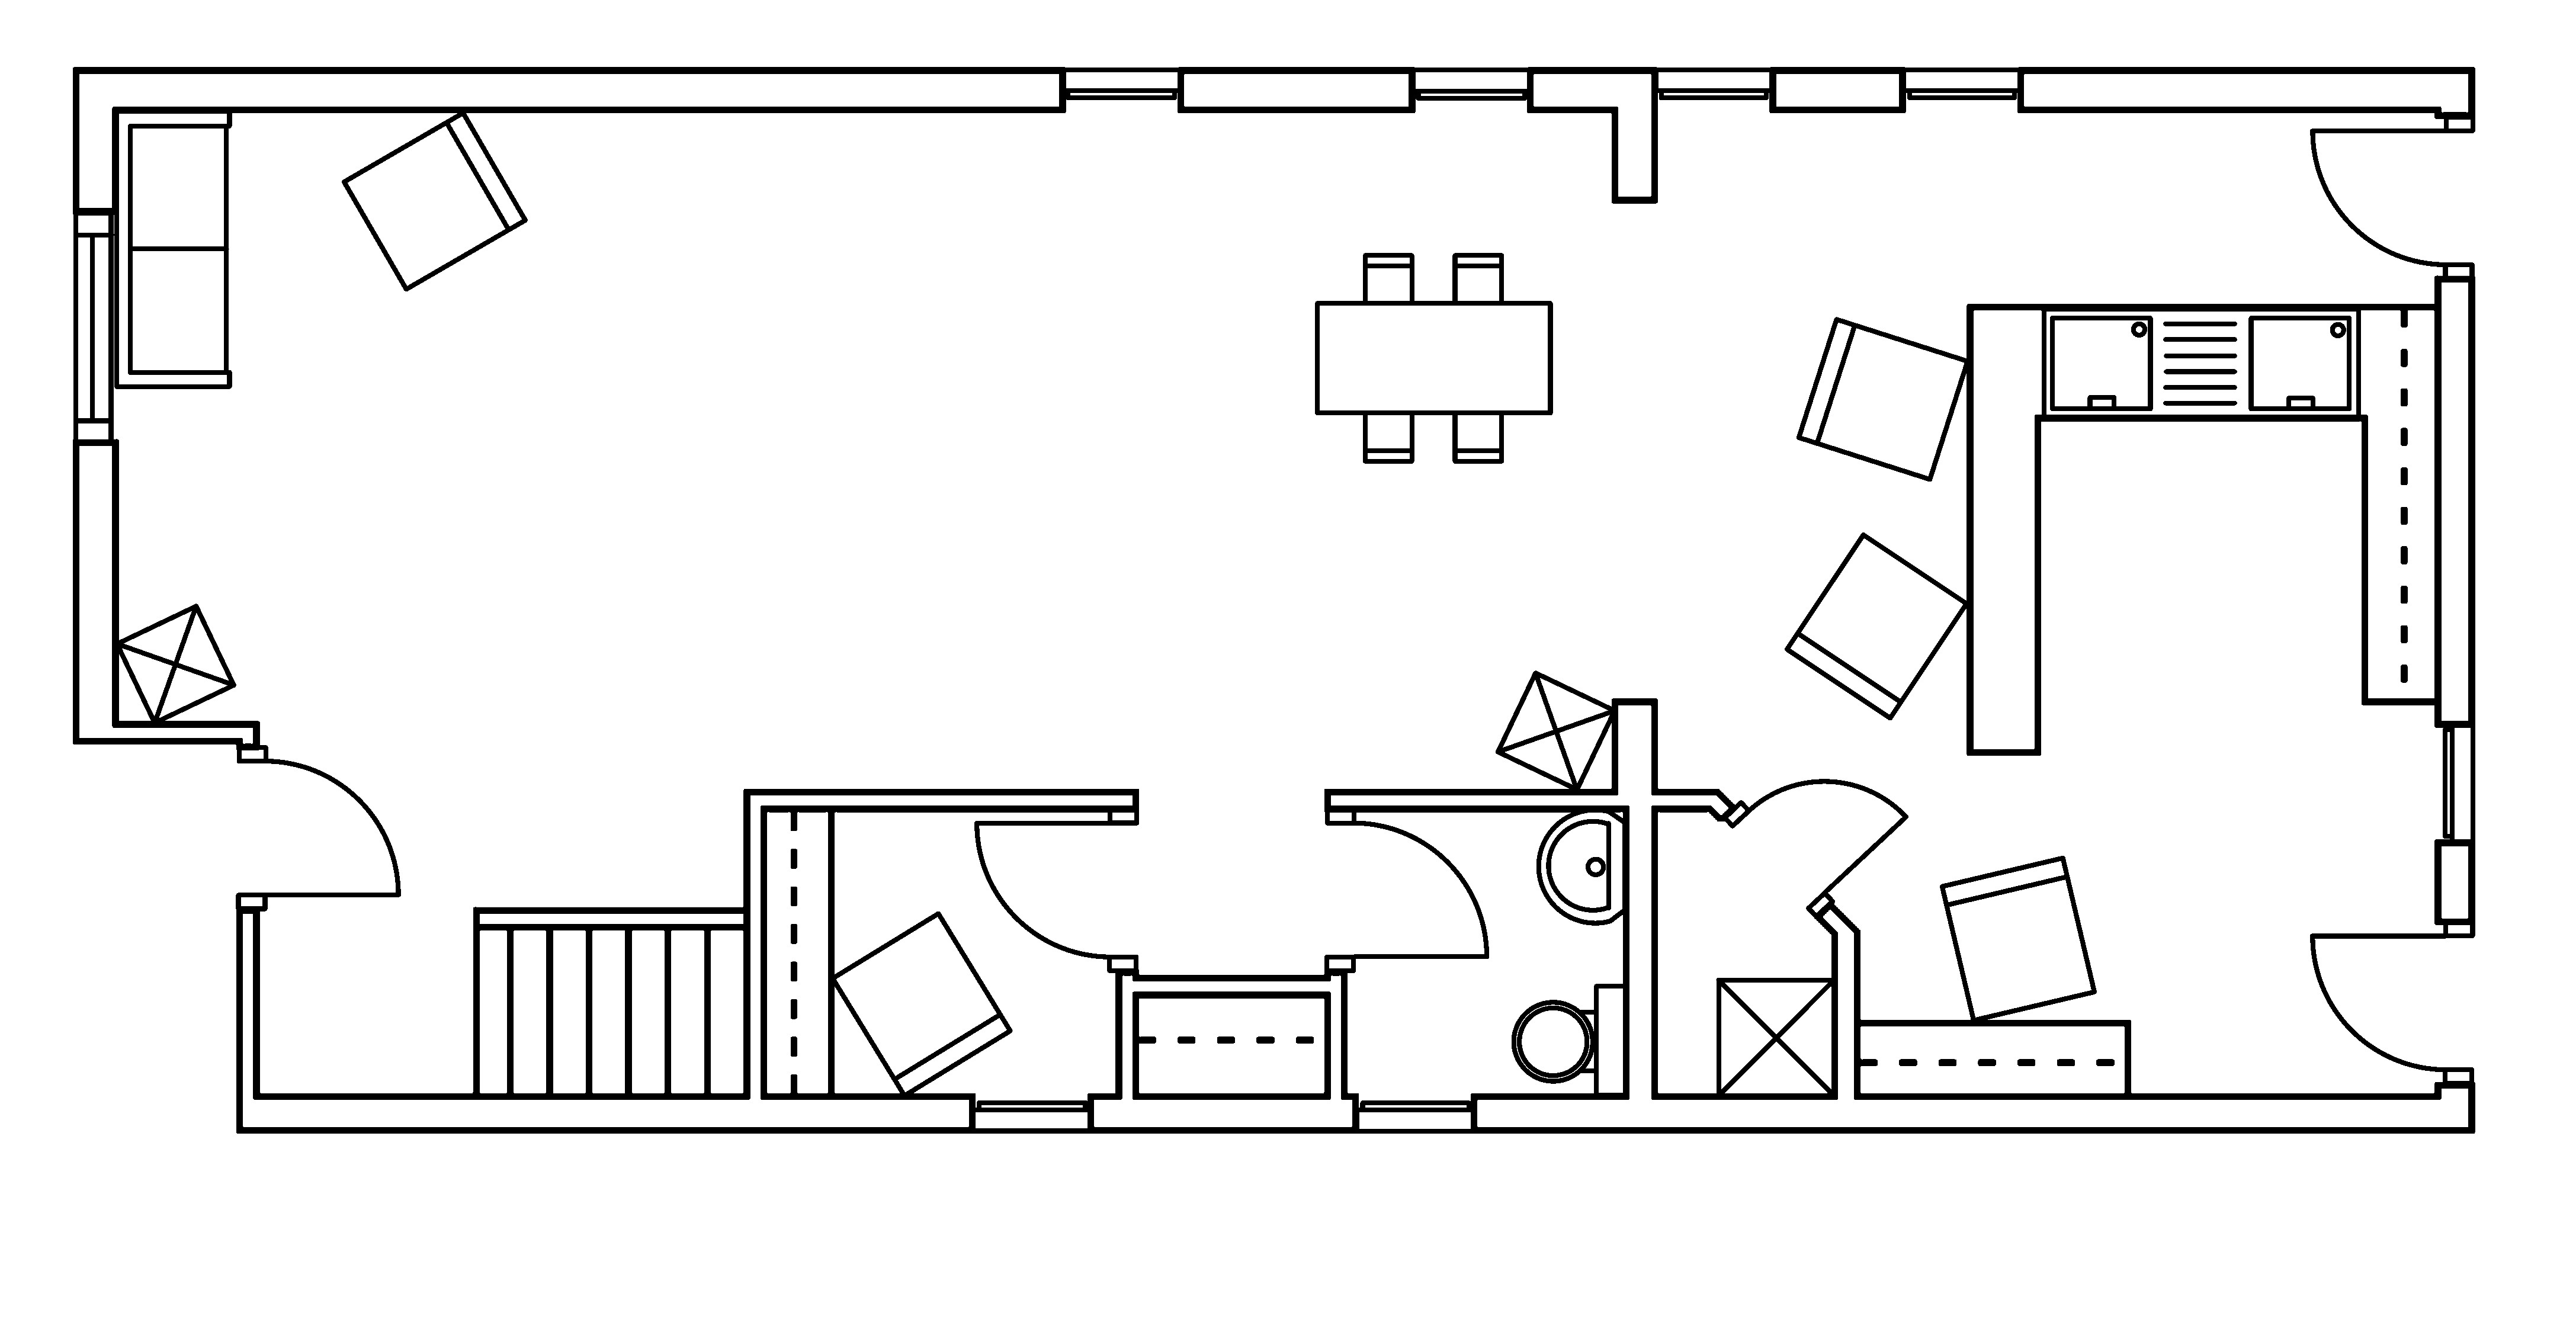coffee_table: (1493, 670, 1618, 792), (113, 602, 237, 725), (1715, 976, 1836, 1099)
dining_table: (1313, 252, 1554, 464)
large_sink: (1512, 983, 1628, 1097)
large_sofa: (113, 108, 232, 389)
small_sink: (1535, 808, 1628, 925)
small_sofa: (1784, 532, 1969, 720), (829, 910, 1012, 1099), (341, 109, 528, 291), (1796, 316, 1971, 481), (1939, 855, 2097, 1023)
twin_sink: (2040, 305, 2361, 421)
